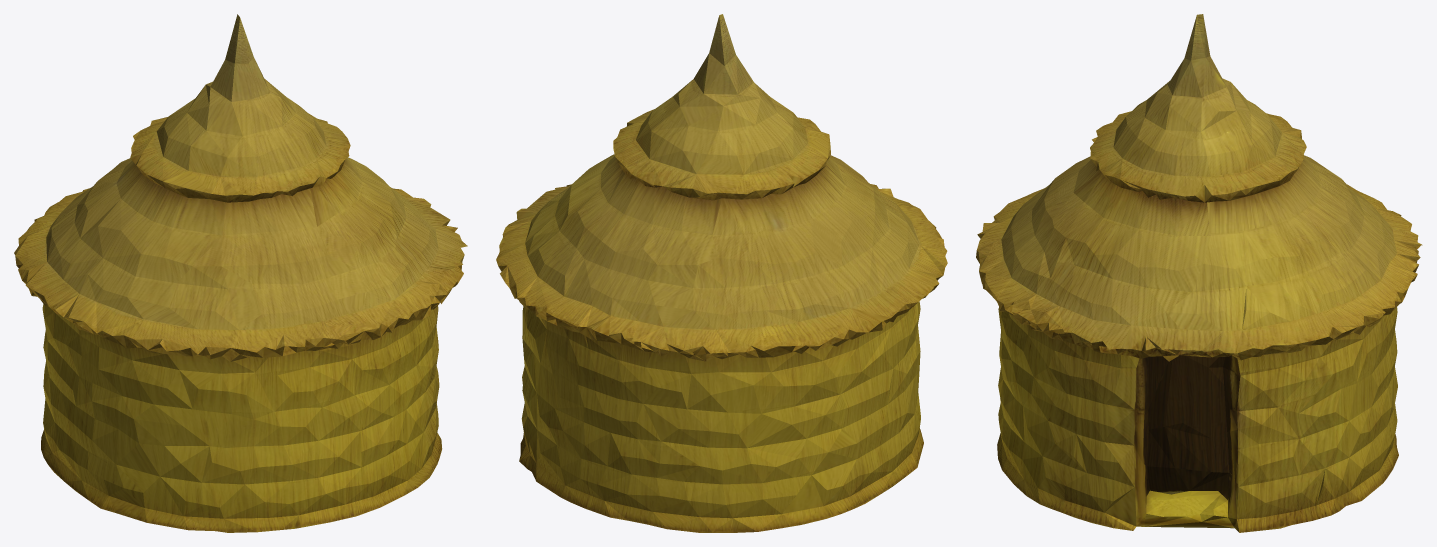
File: casa2_totora.glb
3 views of the same model, side by side, from view 1: azimuth 30°, elevation 25°; view 2: azimuth 150°, elevation 25°; view 3: azimuth 270°, elevation 25° (orthographic).
Visible parts, largest first — view 1: material.002; view 2: material.002; view 3: material.002.
Part boxes in pixels (box(x1,y1,x2,y2)): material.002: box(14, 14, 467, 532); material.002: box(496, 14, 947, 532); material.002: box(976, 14, 1422, 532).
Size of the model in its own units: 4.01 by 4.27 by 3.94.
Materials: 1 (1 with a texture image).
